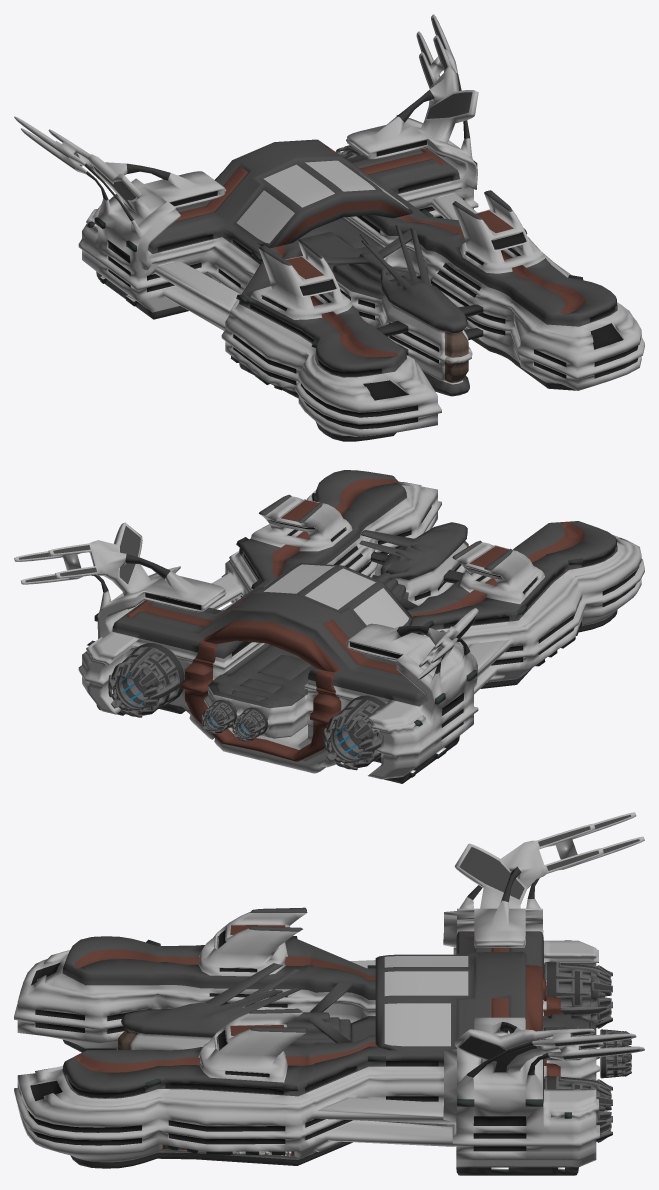
Rendered from korolev_star004_correct90.fbx.
3 views of the same model, one above another, from view 1: azimuth 30°, elevation 25°; view 2: azimuth 150°, elevation 25°; view 3: azimuth 270°, elevation 25° (orthographic). The views are drawn at different scales.
Visible parts, largest first — view 1: Empty_Mesh; view 2: Empty_Mesh; view 3: Empty_Mesh.
Boxes of the visible parts, box(x1,y1,x2,y2) form: Empty_Mesh: box(14, 14, 644, 441); Empty_Mesh: box(14, 470, 644, 783); Empty_Mesh: box(14, 812, 644, 1175).
Size of the model in its own units: 18.04 by 7.71 by 21.59.
